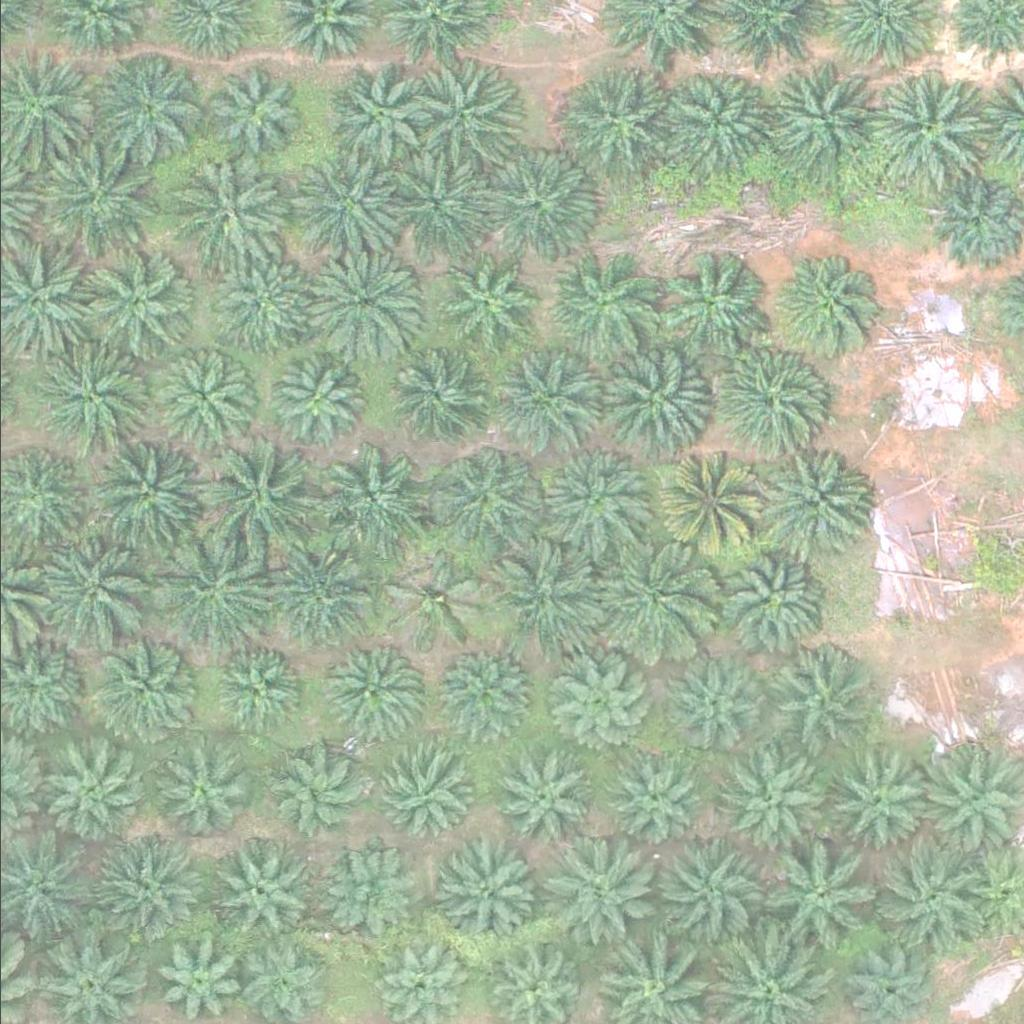Kelapa_Sawit: (91, 437, 205, 550), (307, 244, 421, 357), (291, 153, 405, 266), (664, 70, 778, 183), (759, 61, 873, 174), (652, 836, 765, 949), (83, 830, 196, 943), (38, 531, 151, 644), (267, 534, 380, 647), (487, 538, 600, 651), (599, 542, 712, 655), (198, 436, 311, 549), (592, 345, 705, 458), (34, 339, 147, 452), (650, 247, 763, 360), (73, 249, 186, 362), (174, 158, 287, 271), (756, 839, 869, 952), (711, 541, 824, 654), (534, 835, 648, 947), (152, 534, 266, 646), (544, 250, 658, 362), (90, 51, 204, 163), (772, 248, 886, 360), (319, 442, 432, 554), (470, 151, 583, 263), (41, 140, 154, 252), (562, 62, 675, 174), (414, 62, 527, 174), (873, 845, 986, 957), (723, 747, 836, 859), (760, 641, 873, 753), (754, 444, 867, 556), (710, 334, 823, 446), (869, 76, 982, 188), (431, 842, 532, 942), (202, 846, 303, 946), (489, 747, 590, 847), (369, 739, 470, 839), (269, 744, 370, 844), (37, 740, 138, 840), (434, 645, 535, 745), (318, 642, 419, 742), (92, 641, 193, 741), (545, 443, 646, 543), (433, 445, 534, 545), (488, 351, 589, 451), (148, 346, 249, 446), (433, 252, 534, 352), (198, 63, 299, 163), (328, 64, 429, 164), (821, 752, 922, 852), (320, 838, 420, 938), (540, 648, 640, 748), (384, 554, 484, 654), (652, 449, 752, 549), (375, 343, 475, 443), (202, 254, 302, 354), (386, 154, 486, 254), (266, 356, 355, 444), (206, 644, 294, 732), (607, 759, 695, 846), (154, 748, 242, 835), (662, 661, 750, 748)
